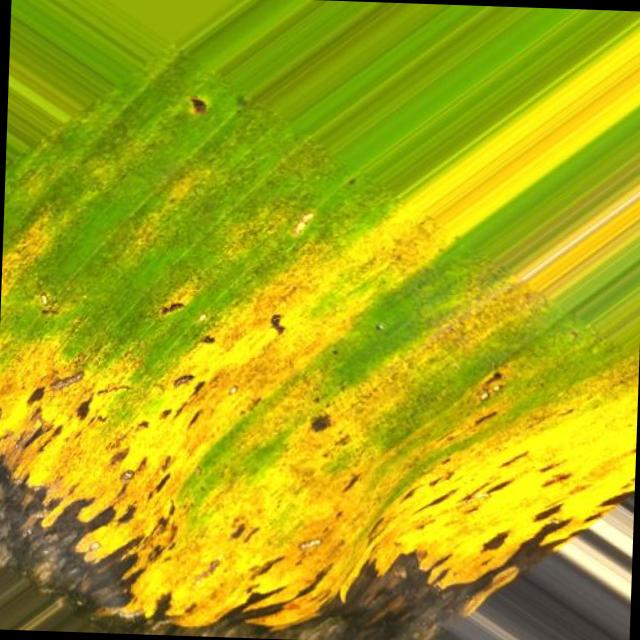Banana_Black_Sigatoka: (0, 279, 613, 640)
